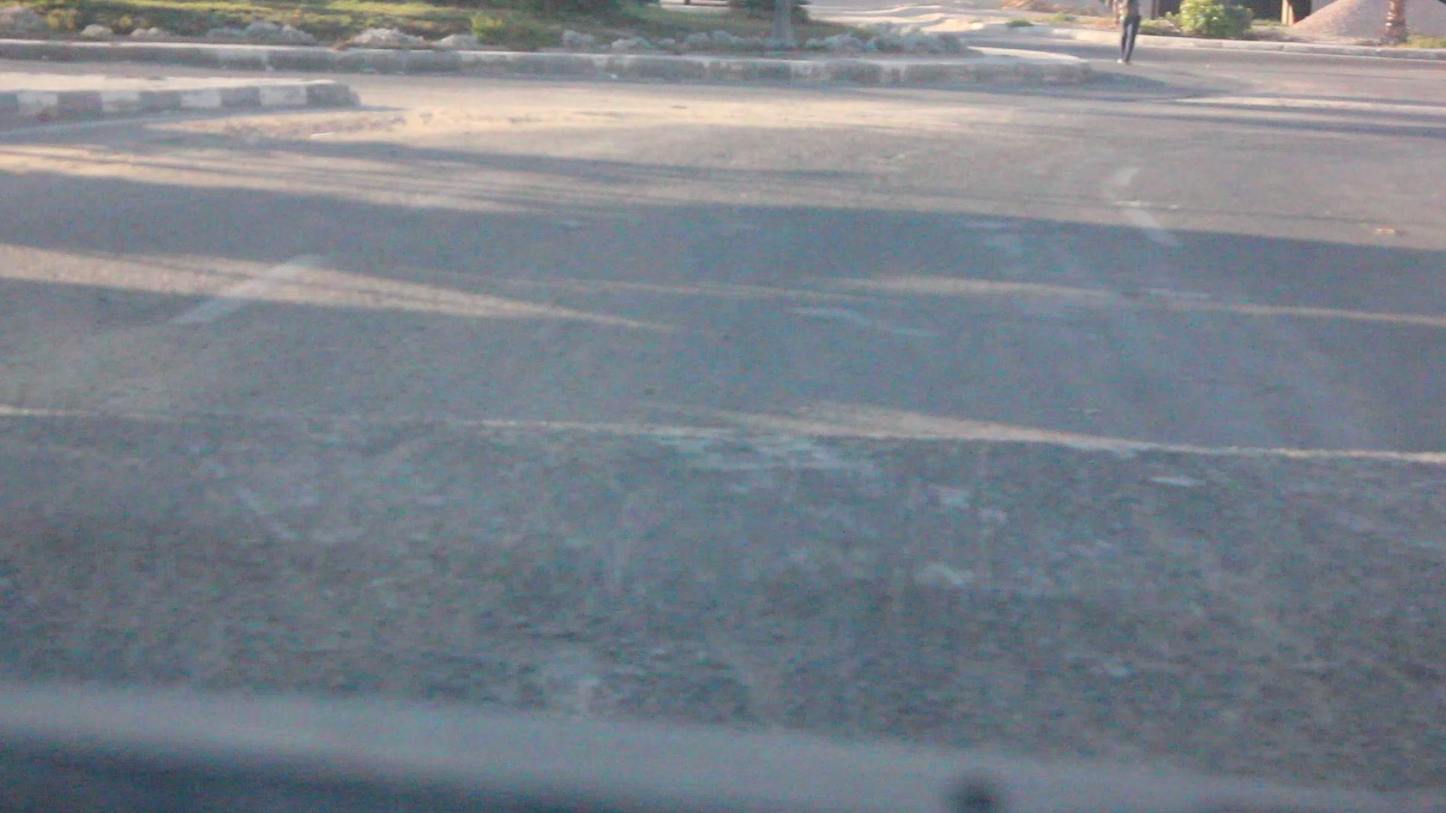Bump: (0, 393, 1446, 725)
